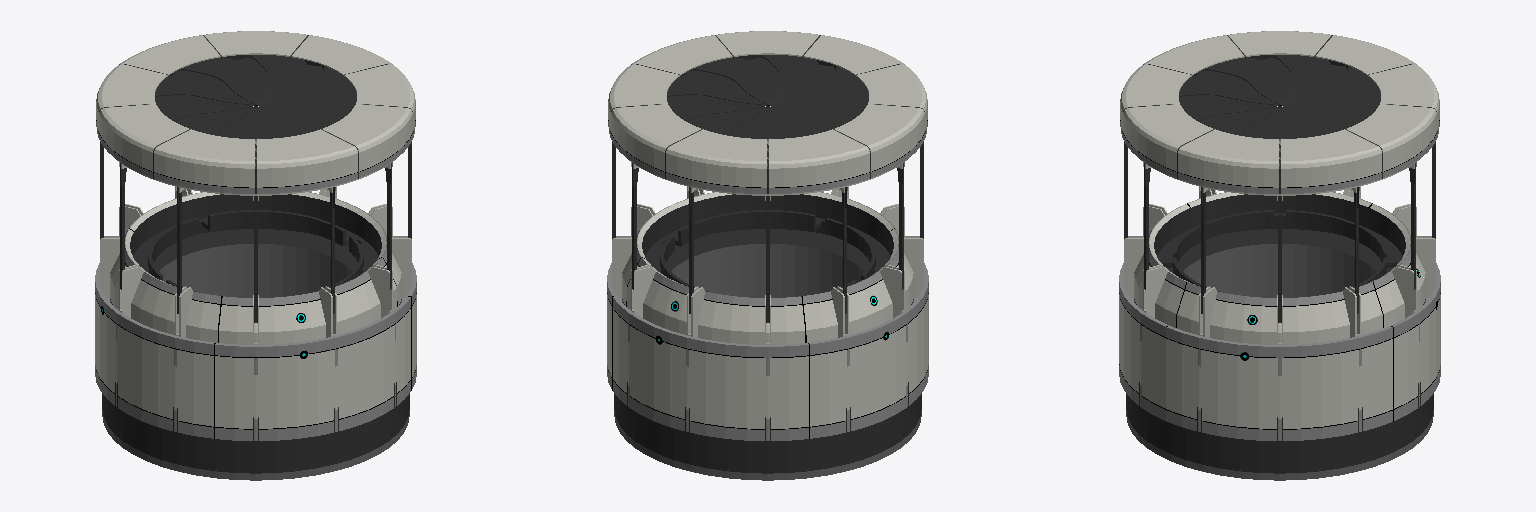
3 views of the same model, side by side, from view 1: azimuth 30°, elevation 25°; view 2: azimuth 150°, elevation 25°; view 3: azimuth 270°, elevation 25° (orthographic).
Parts seen in each view (by area): view 1: item_dropper_model; view 2: item_dropper_model; view 3: item_dropper_model.
Part boxes in pixels (x1,y1,x2,y2): item_dropper_model: (95,31,416,480); item_dropper_model: (607,31,928,480); item_dropper_model: (1119,31,1440,480).
Size of the model in its own units: 0.9138 by 1 by 0.9138.
2 materials, 2 textured.